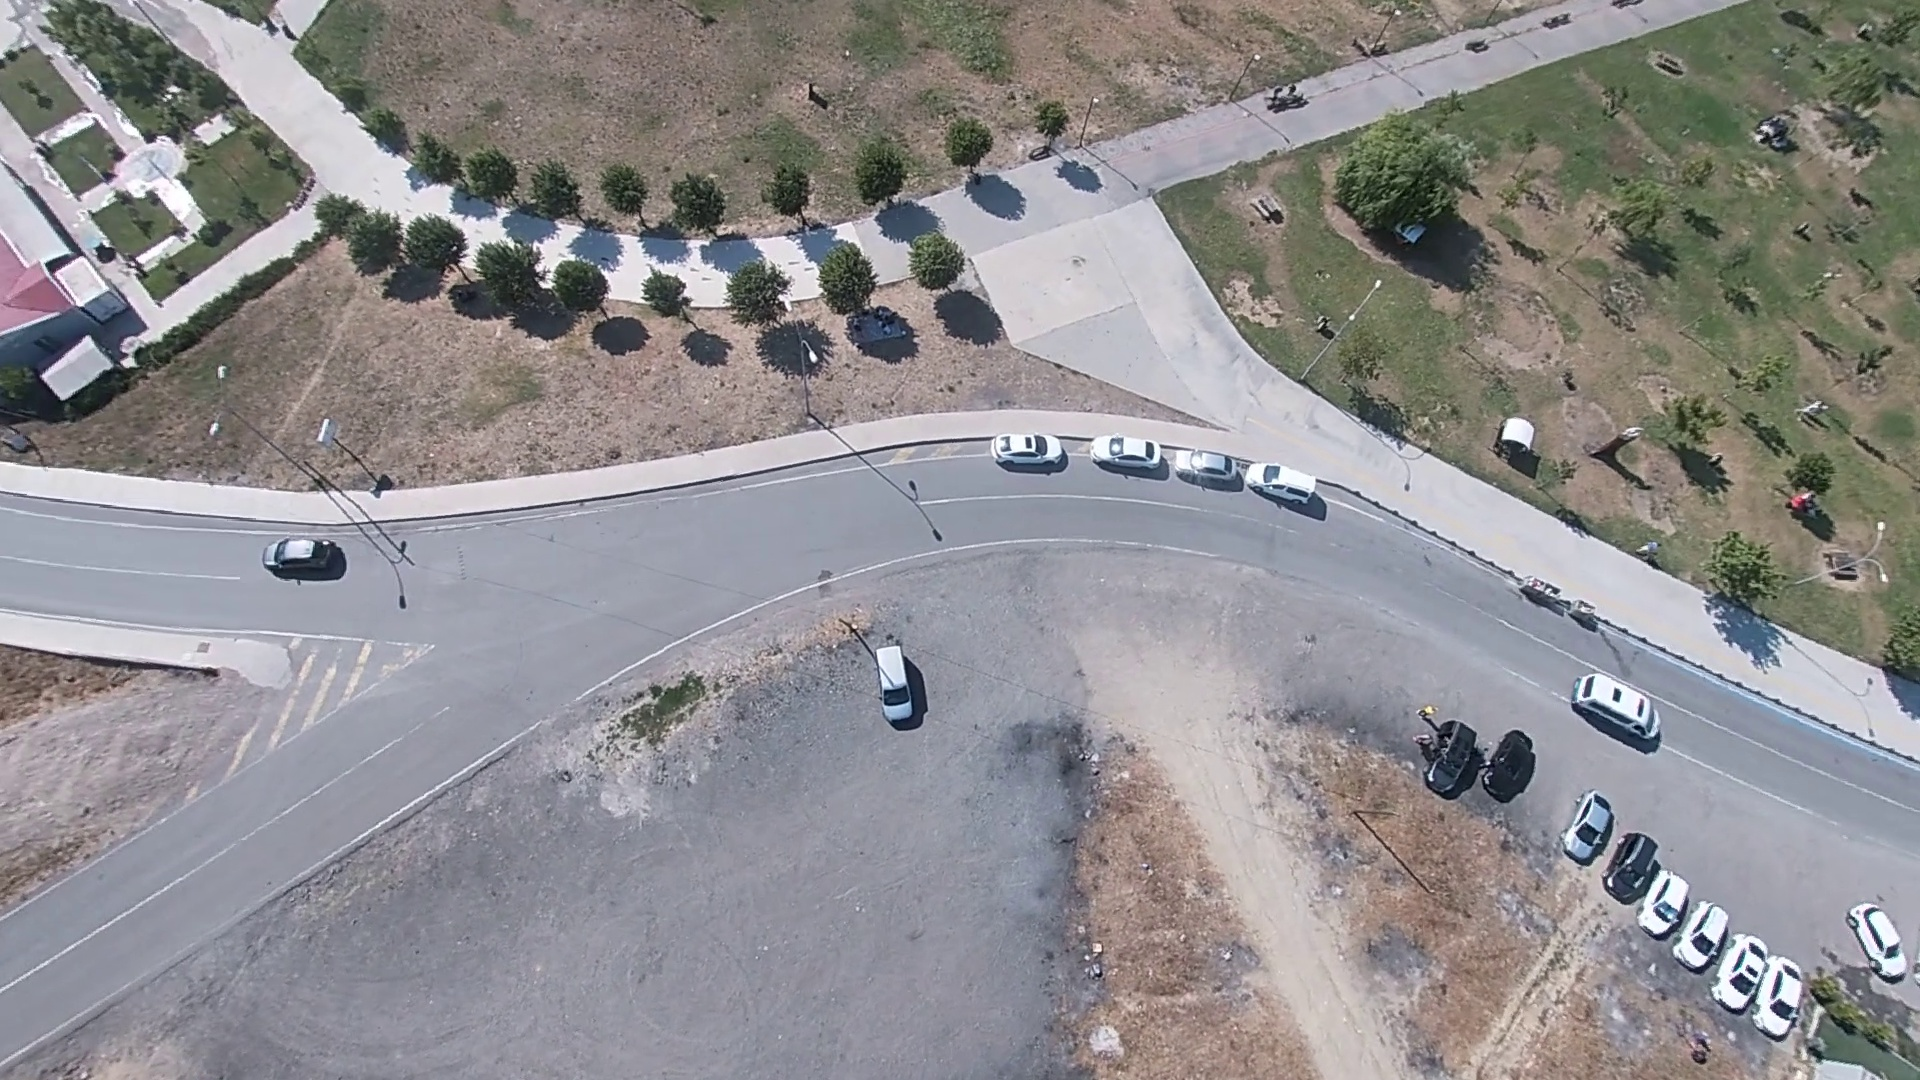arac: (1568, 666, 1670, 750), (1847, 901, 1911, 981), (1241, 458, 1326, 514), (871, 640, 922, 728), (1570, 789, 1621, 868), (256, 533, 338, 576), (989, 429, 1067, 470)
insan: (1787, 491, 1831, 536), (1756, 114, 1798, 152), (310, 413, 335, 453)
